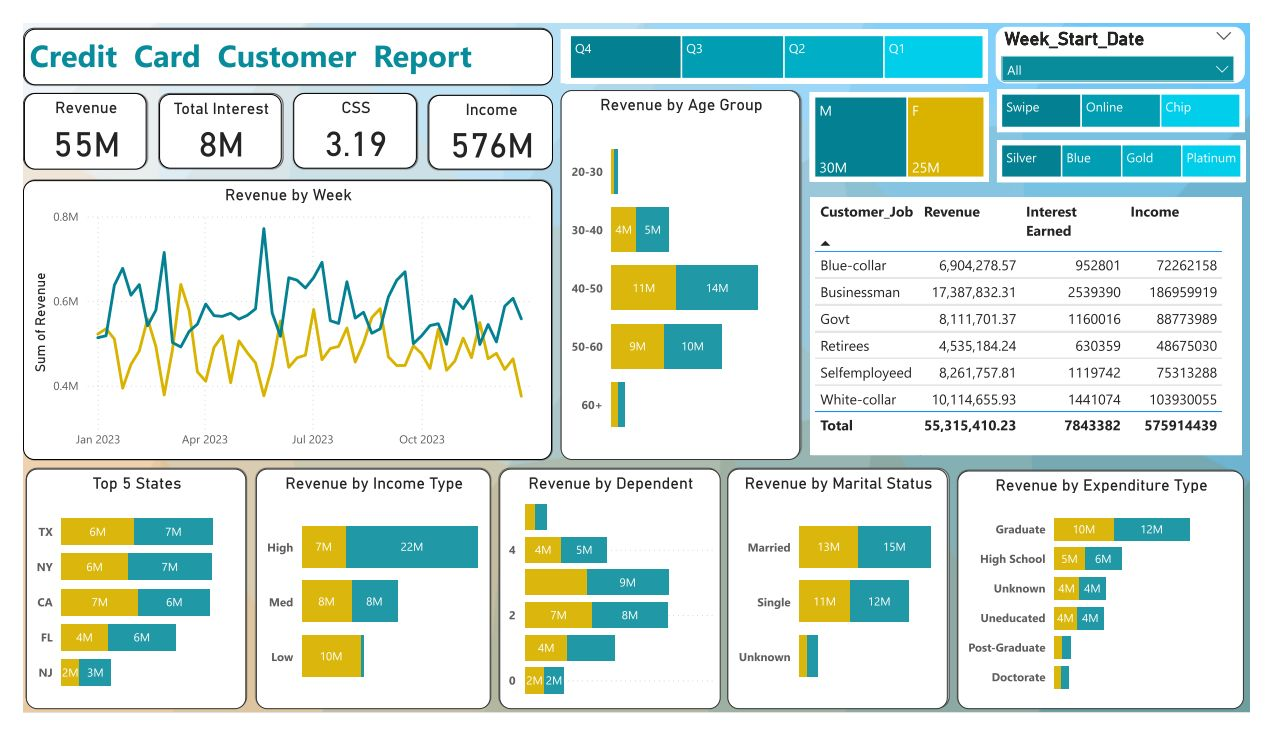

The dashboard page shown, as its layout file describes it:
{"tool":"powerbi","page":{"name":"CC Customer","canvas":[1280,720],"ordinal":2},"visuals":[{"type":"textbox","box":[0.9,6,552,59],"z":0},{"type":"barChart","title":"Revenue by Income Type","fields":{"Y":["Sum(Processed_Credit_Card_Data.Revenue)"],"Category":["customer.IncomeGroup"],"Series":["customer.Gender"]},"box":[243.4,464.6,245,251.1],"z":1000},{"type":"tableEx","fields":{"Values":["customer.Customer_Job","Sum(Processed_Credit_Card_Data.Revenue)","Sum(Processed_Credit_Card_Data.Interest_Earned)","Sum(customer.Income)"]},"box":[820.6,182.4,451,269],"z":2000},{"type":"card","title":"Revenue","fields":{"Values":["Sum(Processed_Credit_Card_Data.Revenue)"]},"box":[0.9,72.9,127.7,79.7],"z":3000},{"type":"card","title":"Income","fields":{"Values":["Sum(customer.Income)"]},"box":[422.6,74.6,130.3,78],"z":4000},{"type":"card","title":"Total Interest","fields":{"Values":["Sum(Processed_Credit_Card_Data.Interest_Earned)"]},"box":[142.3,73.7,127.7,78],"z":5000},{"type":"card","title":"CSS","fields":{"Values":["Avg(customer.Cust_Satisfaction_Score)"]},"box":[282,73,128.6,79],"z":6000},{"type":"slicer","fields":{"Values":["Processed_Credit_Card_Data.Week_Start_Date"]},"box":[1014.7,4.1,260,58.8],"z":7000},{"type":"treemap","fields":{"Group":["Processed_Credit_Card_Data.Qtr"],"Values":["Avg(Processed_Credit_Card_Data.Client_Num)"]},"box":[565.6,7.5,441.2,55],"z":8000},{"type":"treemap","fields":{"Values":["Avg(Processed_Credit_Card_Data.Client_Num)"],"Group":["Processed_Credit_Card_Data.Card_Category"]},"box":[1015.9,122.4,260.6,43.5],"z":9000},{"type":"lineChart","title":"Revenue by Week","fields":{"Y":["Sum(Processed_Credit_Card_Data.Revenue)"],"Series":["customer.Gender"],"Category":["Processed_Credit_Card_Data.Week_Start_Date.Variation.Date Hierarchy.Year","Processed_Credit_Card_Data.Week_Start_Date.Variation.Date Hierarchy.Quarter","Processed_Credit_Card_Data.Week_Start_Date.Variation.Date Hierarchy.Month","Processed_Credit_Card_Data.Week_Start_Date.Variation.Date Hierarchy.Day"]},"box":[0,163.7,552,292],"z":10000},{"type":"treemap","fields":{"Group":["customer.Gender"],"Values":["Sum(Processed_Credit_Card_Data.Revenue)"]},"box":[820.6,71.8,187,94],"z":11000},{"type":"barChart","title":"Revenue by Age Group","fields":{"Y":["Sum(Processed_Credit_Card_Data.Revenue)"],"Category":["customer.AgeGroup"],"Series":["customer.Gender"]},"box":[561.4,70.3,250,385.7],"z":12000},{"type":"barChart","title":"Revenue by Dependent","fields":{"Y":["Sum(Processed_Credit_Card_Data.Revenue)"],"Category":["customer.Dependent_Count"],"Series":["customer.Gender"]},"box":[497.1,464.6,230.6,251.1],"z":13000},{"type":"barChart","title":"Revenue by Expenditure Type","fields":{"Y":["Sum(Processed_Credit_Card_Data.Revenue)"],"Category":["customer.Education_Level"],"Series":["customer.Gender"]},"box":[975.4,467.1,298.3,248.6],"z":14000},{"type":"barChart","title":"Top 5 States","fields":{"Y":["Sum(Processed_Credit_Card_Data.Revenue)"],"Category":["customer.state_cd"],"Series":["customer.Gender"]},"box":[2.6,464.6,230.6,251.1],"z":15000},{"type":"barChart","title":"Revenue by Marital Status","fields":{"Y":["Sum(Processed_Credit_Card_Data.Revenue)"],"Category":["customer.Marital_Status"],"Series":["customer.Gender"]},"box":[734.6,464.6,230.6,251.1],"z":16000},{"type":"treemap","fields":{"Values":["Avg(Processed_Credit_Card_Data.Client_Num)"],"Group":["Processed_Credit_Card_Data.Use Chip"]},"box":[1015.9,69.4,259.4,44.1],"z":17000}]}

Visuals, with their boxes in screenshot pixels (x1, y1, x2, y2), scaled from the page's 1280x720 canvas onto the 1272x736 screenshot:
textbox: x1=1, y1=6, x2=549, y2=66
"Revenue by Income Type" barChart: x1=242, y1=475, x2=485, y2=732
tableEx - customer.Customer_Job x Sum(Processed_Credit_Card_Data.Revenue): x1=815, y1=186, x2=1264, y2=461
"Revenue" card: x1=1, y1=75, x2=128, y2=156
"Income" card: x1=420, y1=76, x2=549, y2=156
"Total Interest" card: x1=141, y1=75, x2=268, y2=155
"CSS" card: x1=280, y1=75, x2=408, y2=155
slicer - Processed_Credit_Card_Data.Week_Start_Date: x1=1008, y1=4, x2=1267, y2=64
treemap - Processed_Credit_Card_Data.Qtr x Avg(Processed_Credit_Card_Data.Client_Num): x1=562, y1=8, x2=1001, y2=64
treemap - Avg(Processed_Credit_Card_Data.Client_Num) x Processed_Credit_Card_Data.Card_Category: x1=1010, y1=125, x2=1269, y2=170
"Revenue by Week" lineChart: x1=0, y1=167, x2=549, y2=466
treemap - customer.Gender x Sum(Processed_Credit_Card_Data.Revenue): x1=815, y1=73, x2=1001, y2=169
"Revenue by Age Group" barChart: x1=558, y1=72, x2=806, y2=466
"Revenue by Dependent" barChart: x1=494, y1=475, x2=723, y2=732
"Revenue by Expenditure Type" barChart: x1=969, y1=477, x2=1266, y2=732
"Top 5 States" barChart: x1=3, y1=475, x2=232, y2=732
"Revenue by Marital Status" barChart: x1=730, y1=475, x2=959, y2=732
treemap - Avg(Processed_Credit_Card_Data.Client_Num) x Processed_Credit_Card_Data.Use Chip: x1=1010, y1=71, x2=1267, y2=116
